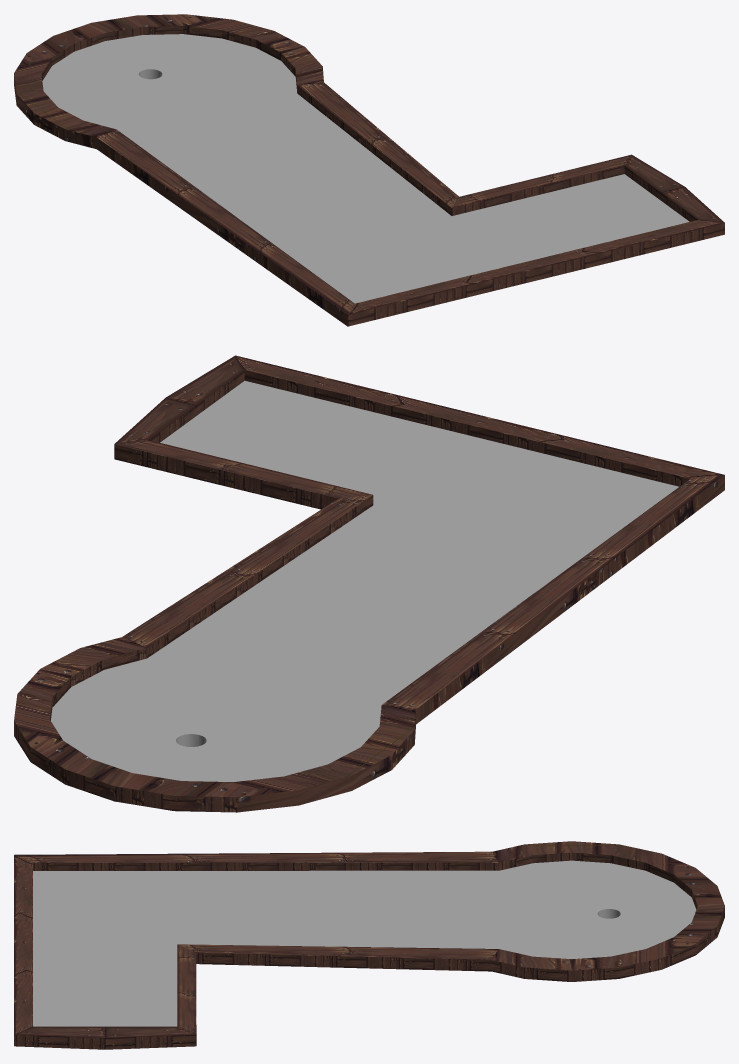
The model's file is Hole1_merged.fbx.
The picture shows the model from 3 angles, top to bottom: view 1: azimuth 30°, elevation 25°; view 2: azimuth 150°, elevation 25°; view 3: azimuth 270°, elevation 25°; orthographic projection. The views are drawn at different scales.
Visible parts, largest first — view 1: Green; view 2: Green; view 3: Green.
Part boxes in pixels (x1,y1,x2,y2): Green: [14, 14, 724, 326]; Green: [14, 355, 724, 812]; Green: [14, 841, 724, 1049].
Size of the model in its own units: 18.93 by 1.13 by 28.86.
